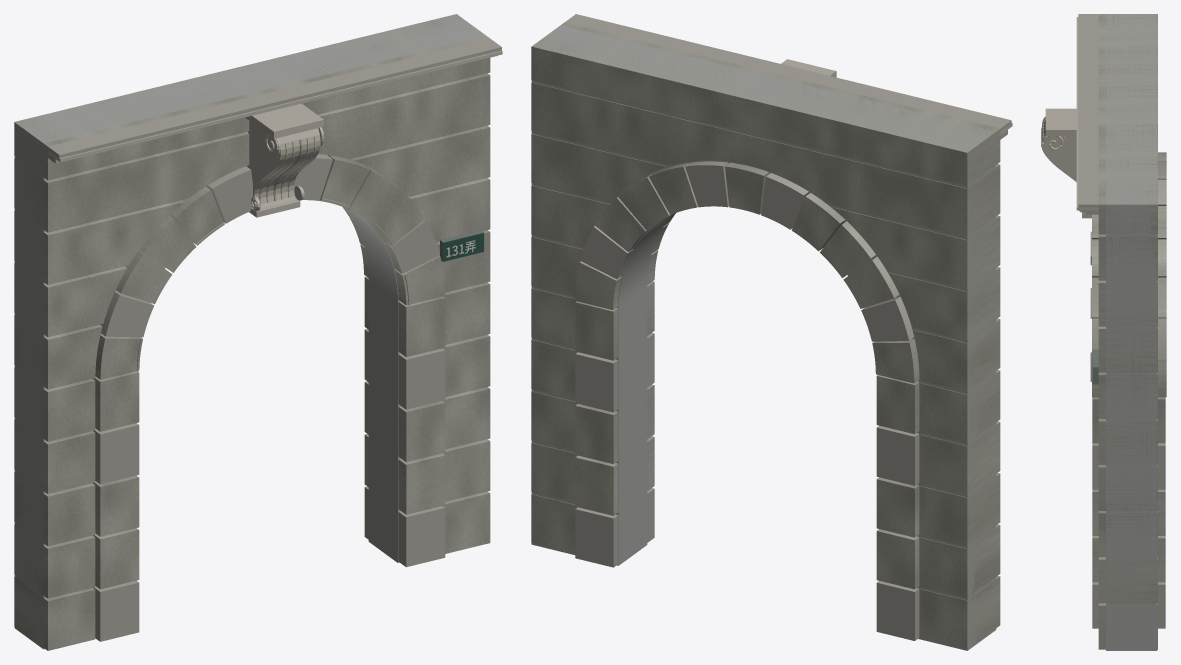
Rendered from guangdong-131-scroll-keystone-near.glb.
3 views of the same model, side by side, from view 1: azimuth 30°, elevation 25°; view 2: azimuth 150°, elevation 25°; view 3: azimuth 270°, elevation 25° (orthographic). The views are drawn at different scales.
Visible parts, largest first — view 1: 广东路131弄券门与卷形拱心石; view 2: 广东路131弄券门与卷形拱心石; view 3: 广东路131弄券门与卷形拱心石.
Boxes of the visible parts, box(x1,y1,x2,y2) form: 广东路131弄券门与卷形拱心石: box(14, 14, 502, 650); 广东路131弄券门与卷形拱心石: box(531, 14, 1012, 650); 广东路131弄券门与卷形拱心石: box(1041, 14, 1166, 650).
Bounding box in the file's own units: 3.88 × 4.24 × 1.08.
8 materials, 2 textured.
